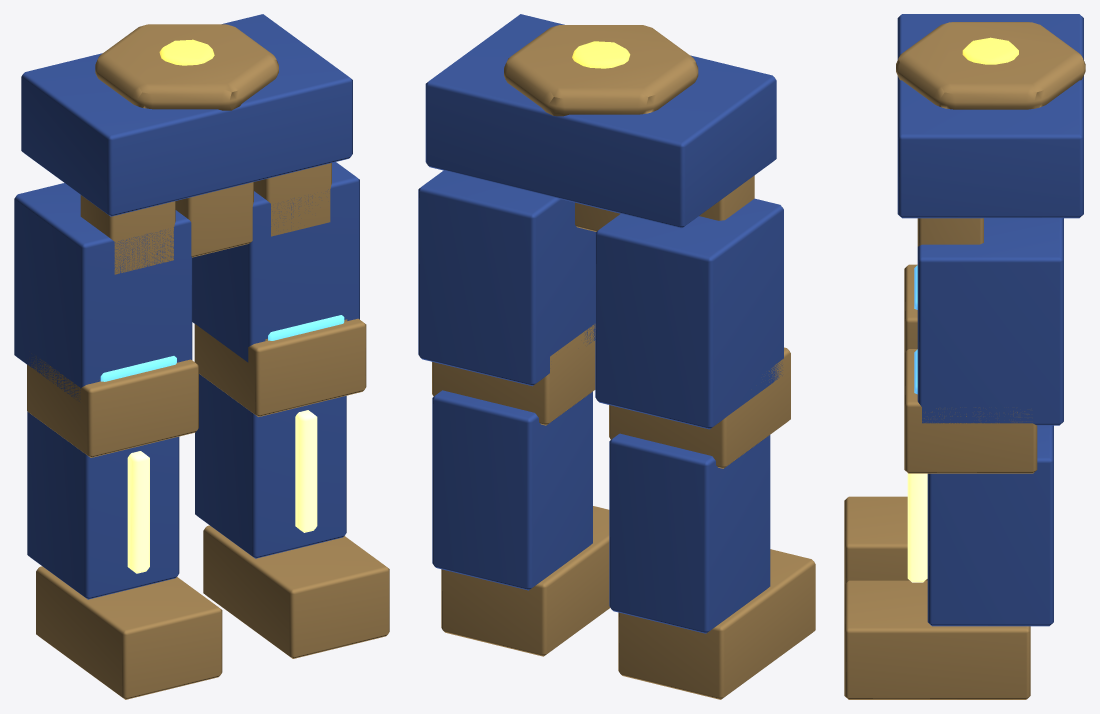
Rendered from errant_legs_rampart.glb.
3 renders of one model, left to right at view 1: azimuth 30°, elevation 25°; view 2: azimuth 150°, elevation 25°; view 3: azimuth 270°, elevation 25°, orthographic. The views are drawn at different scales.
Parts seen in each view (by area): view 1: errant_legs_rampart; view 2: errant_legs_rampart; view 3: errant_legs_rampart.
Boxes of the visible parts, x1,y1,x2,y2 form: errant_legs_rampart: [14, 14, 389, 699]; errant_legs_rampart: [418, 14, 815, 699]; errant_legs_rampart: [844, 14, 1085, 699].
Size of the model in its own units: 0.5 by 0.9725 by 0.3625.
Materials: 1 (1 with a texture image).
